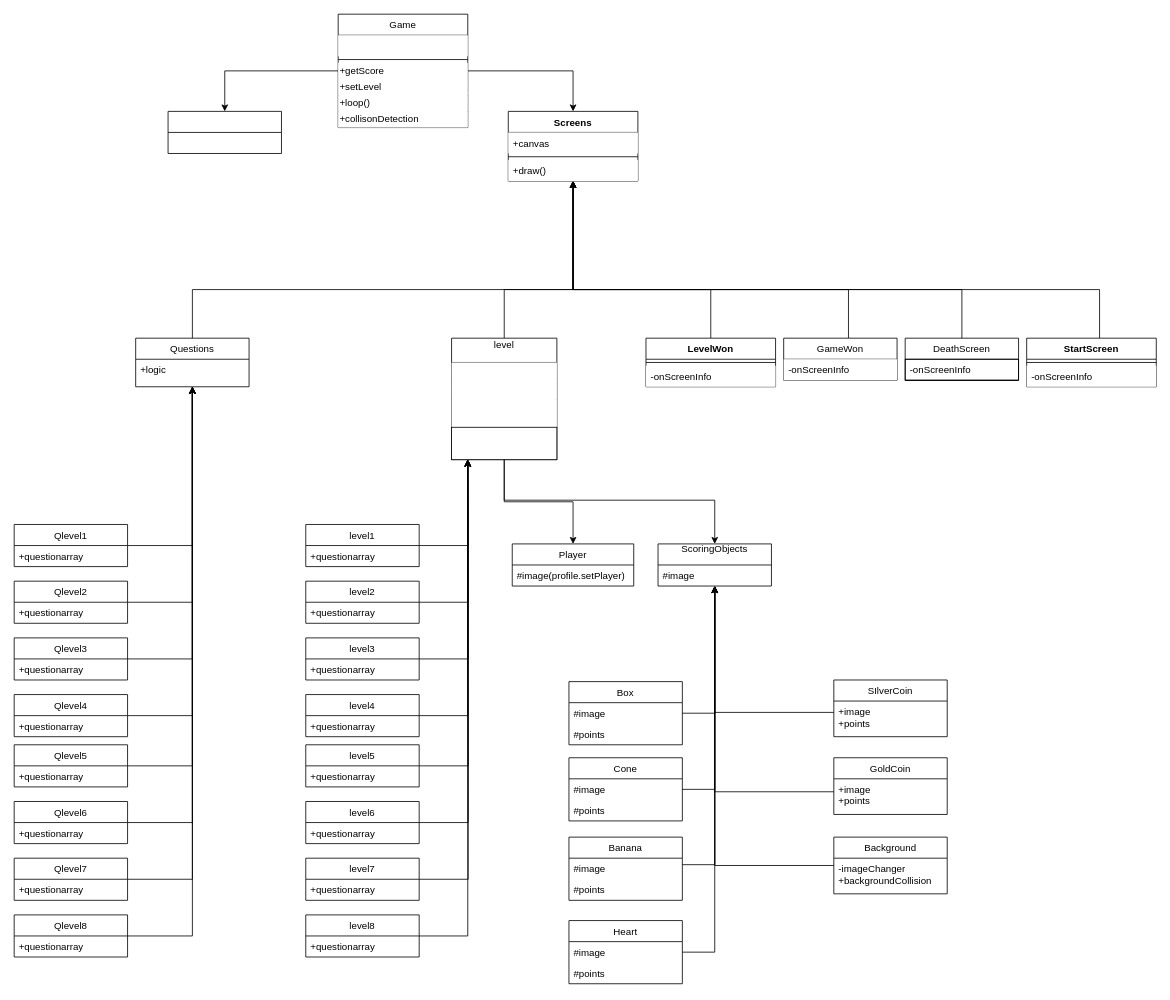
Some shapes in this 1170 by 1000 pixel diagram are drawn without their labels. Here are the shapes that lost their labels. From the top down, the centre of each, then its label:
At [402,45]: "-gameScore".
At [224,132]: "KeyListener".
At [503,370]: "-score".
At [503,388]: "#xPos".
At [503,413]: "#yPos".
At [504,443]: "+timer +getQeustion".
